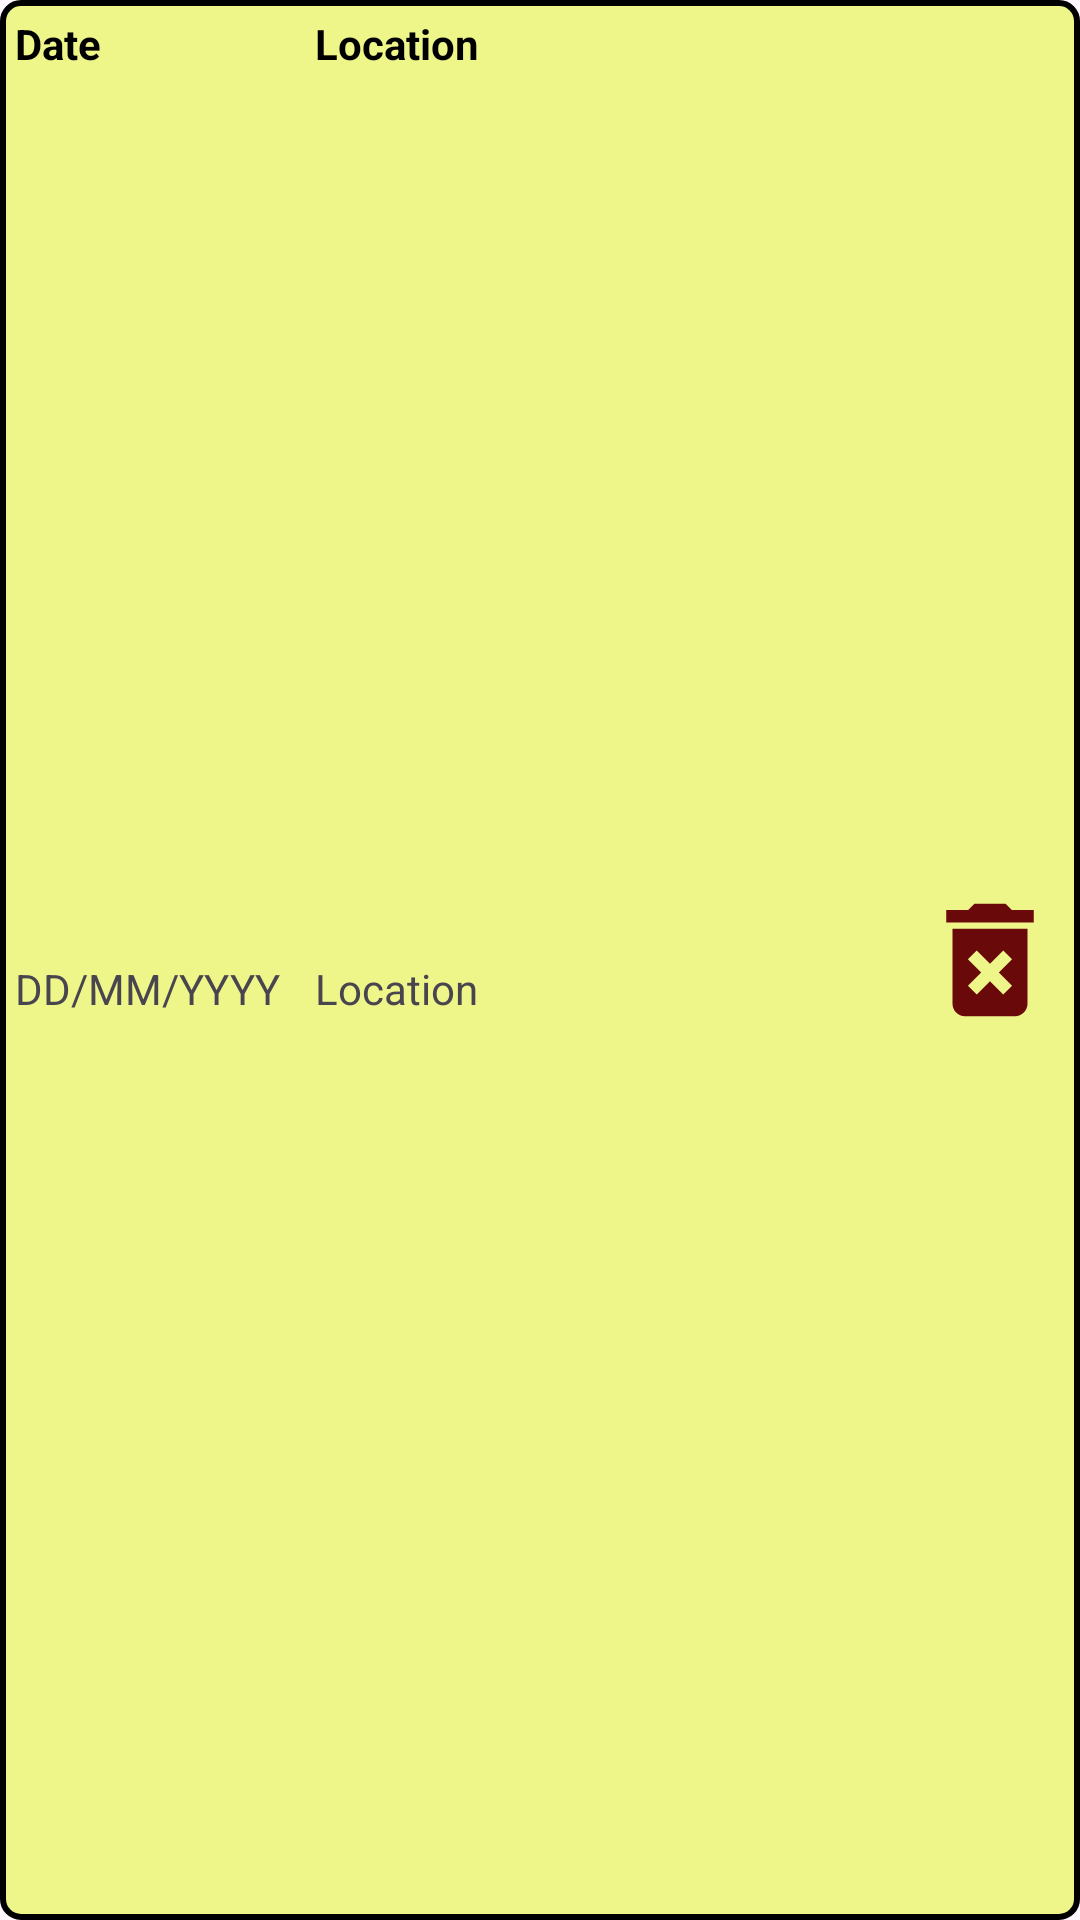

Locate icon controls on the screen. Image size 1080x1920, boxes as (x1, y1, x2, y2).
Remove: (946, 903, 1034, 1017)
